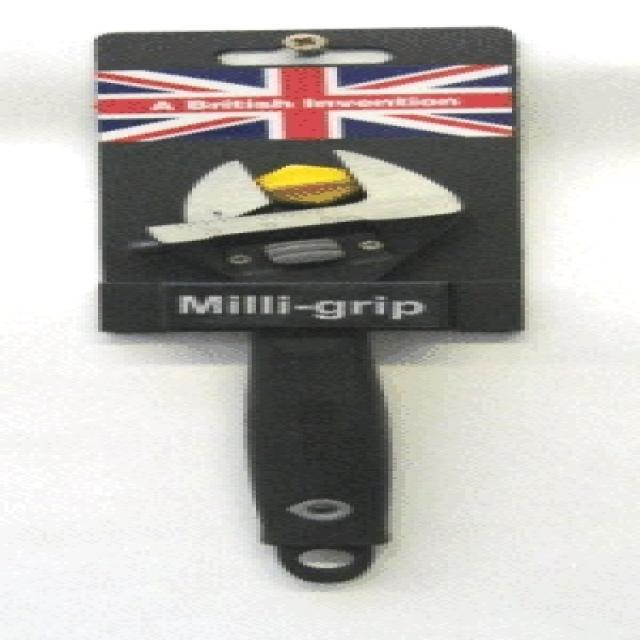wrench: (139, 148, 480, 594)
